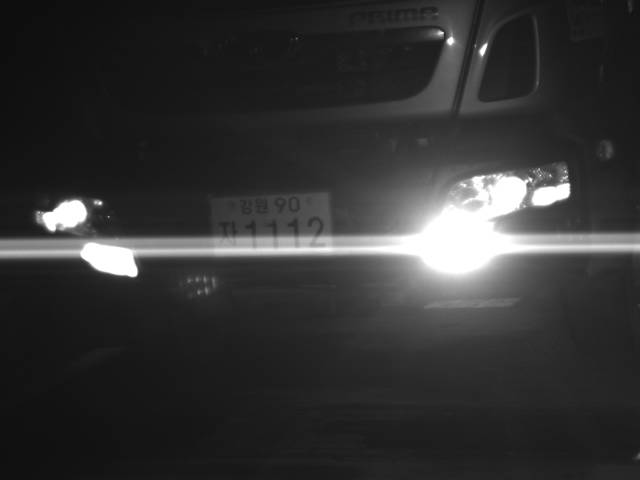car: (1, 1, 639, 323)
plate: (208, 188, 336, 257)
